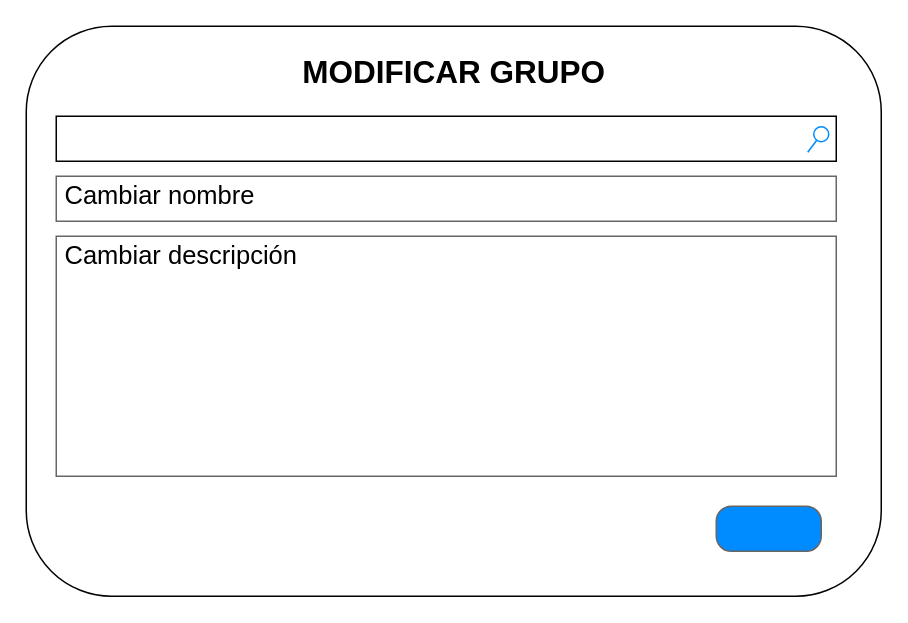
Some shapes in this 908 by 623 pixel diagram are drawn without their labels. Here are the shapes that lost their labels. From the top down, the box of each, then its label:
(55, 115, 836, 161): Cambiar ciudad
(715, 505, 821, 551): Guardar
